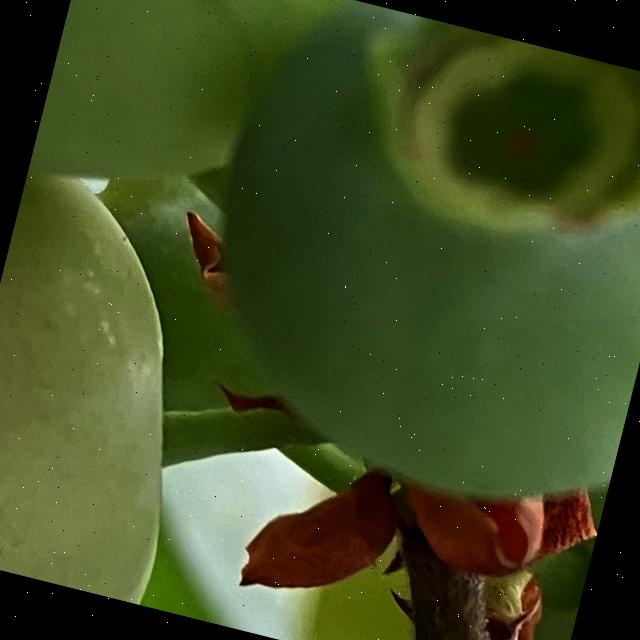Blueberries: (160, 0, 640, 538), (0, 140, 250, 606), (26, 0, 426, 260)
